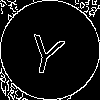Y: (25, 25, 68, 78)
